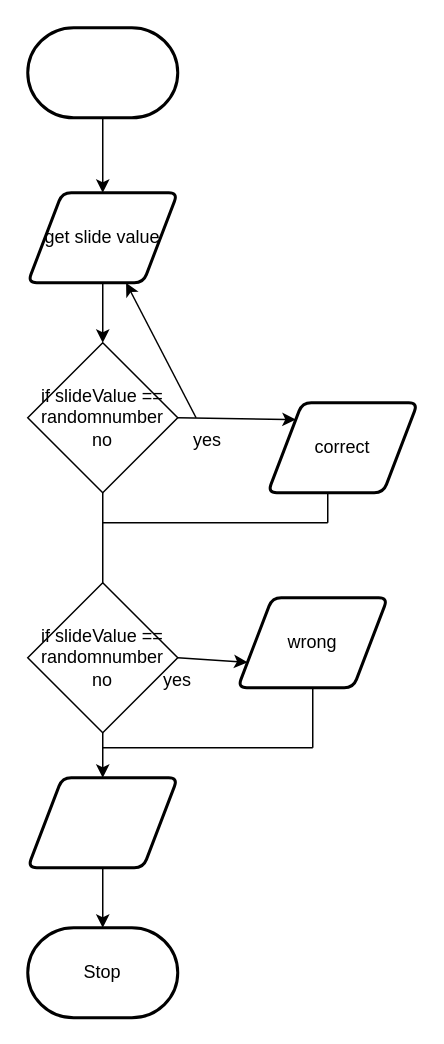
The diagram is 444 pixels wide and 1044 high, and some of its shapes have lost their labels. Each missing label, with the centre of its shape:
"Got it" goes at point 102,822.
"Start" goes at point 102,72.
